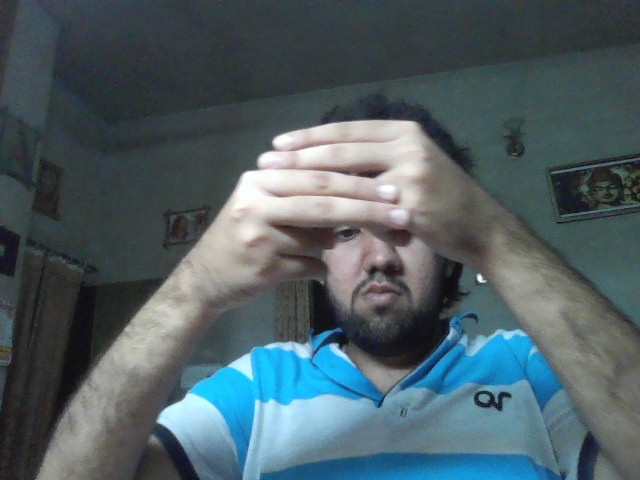Name: (213, 118, 475, 294)
